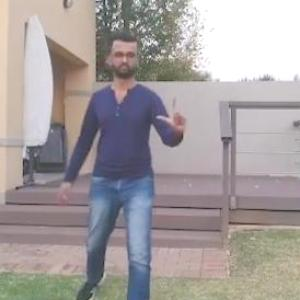land_hand: (154, 85, 194, 139)
